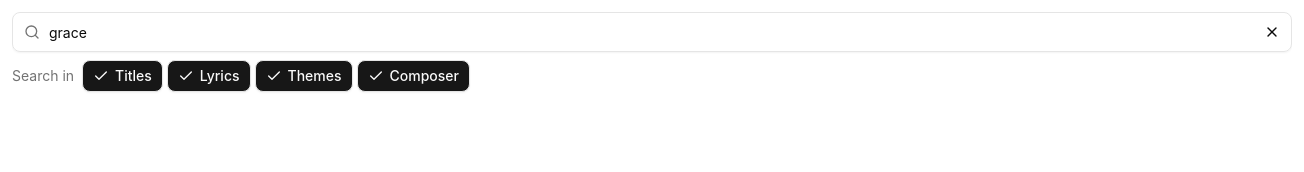
Test: SearchBar › shows a clear button only with text; clicking it clears and refocuses the input
Expected: the field named "Search songs" holds "grace", [12,12,1292,52]
Click the button named "Clear search" at (1272, 32), box [1256,16,1288,48]
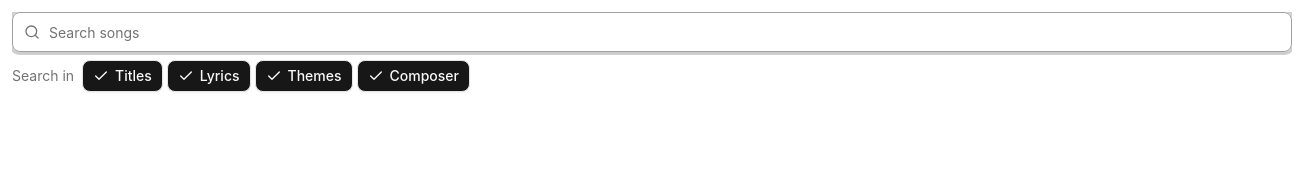
Result: the field labelled "Search songs" is empty at [12,12,1292,52]
